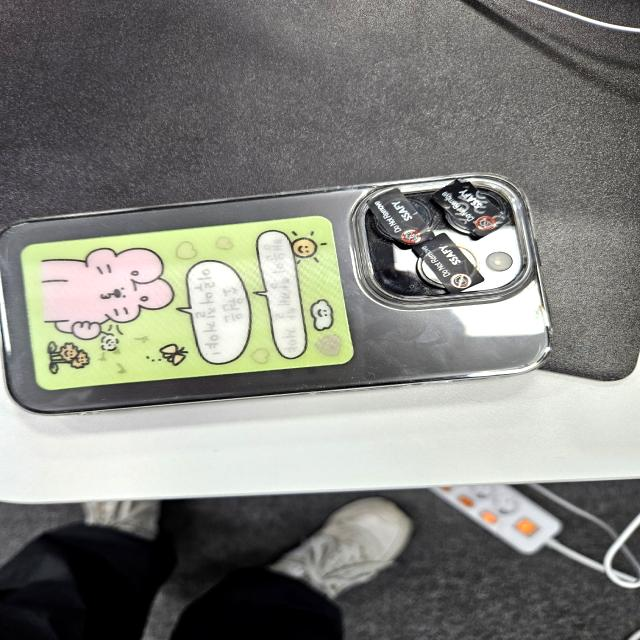phone: (0, 170, 553, 416)
removed_sticker: (436, 181, 507, 237)
sticker: (418, 241, 484, 297), (371, 190, 429, 244)
